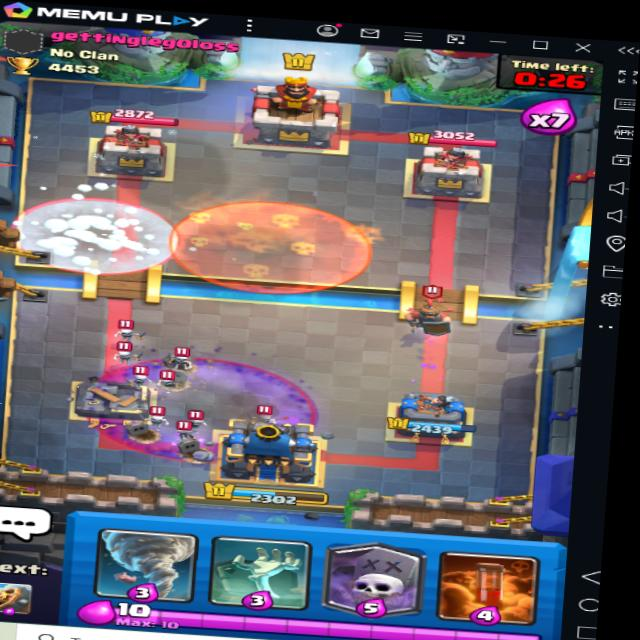Freeze: (4, 190, 182, 278)
Graveyard: (87, 341, 328, 476)
Poison: (162, 191, 376, 301)
Royalrecruits: (401, 282, 464, 336)
Skeleton: (170, 416, 206, 444), (184, 408, 217, 438), (146, 369, 186, 392), (136, 403, 170, 430), (166, 343, 201, 369), (125, 358, 159, 384), (109, 341, 142, 363), (116, 314, 142, 341), (250, 407, 280, 428)
